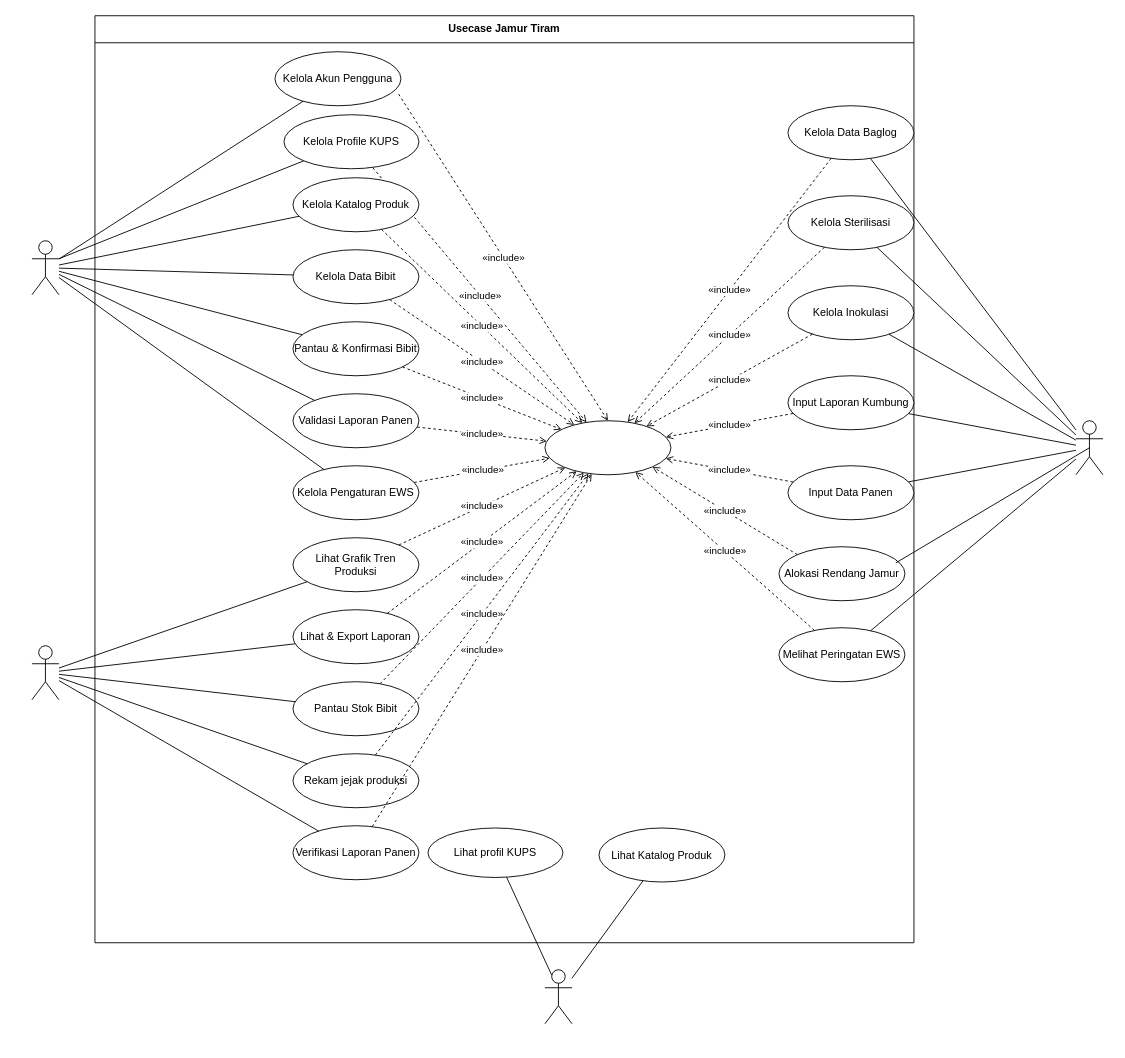
Some shapes in this 1125 by 1058 pixel diagram are drawn without their labels. The shapes that lost their labels are listed below. From the top down, each one's box as (x1, y1, x2, y2) in pixels, then its label:
(31, 240, 59, 295): Admin
(544, 420, 671, 475): Login
(1075, 420, 1103, 475): Petugas
(31, 645, 59, 700): Ketua KUPS
(544, 969, 572, 1024): Umum
